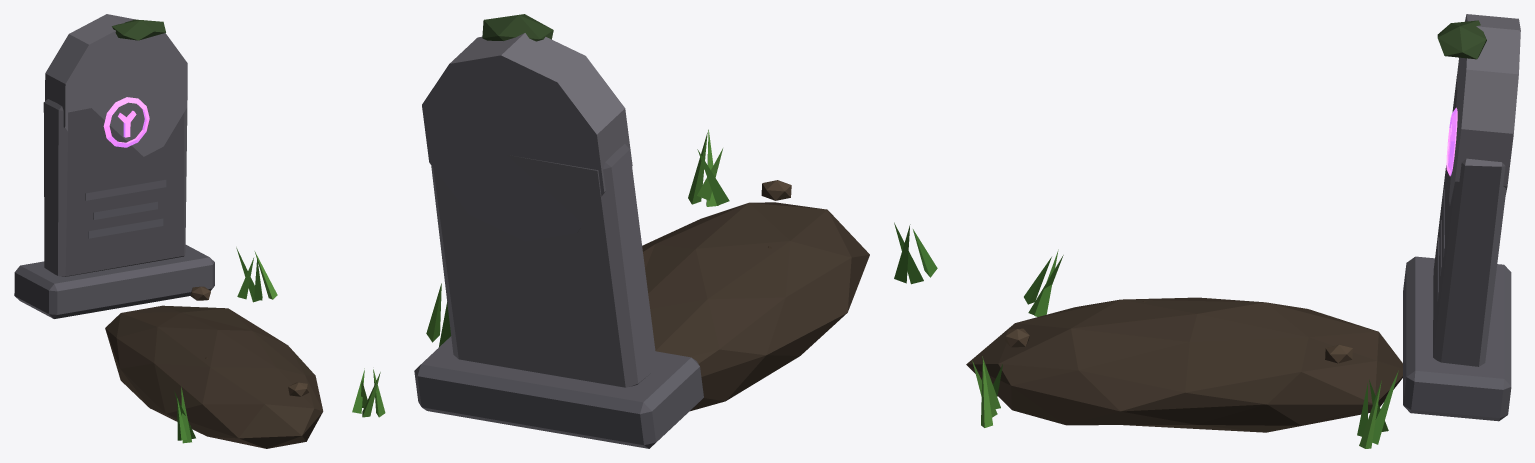
File: grave_1.glb
3 renders of one model, left to right at view 1: azimuth 30°, elevation 25°; view 2: azimuth 150°, elevation 25°; view 3: azimuth 270°, elevation 25°, orthographic. The views are drawn at different scales.
Parts seen in each view (by area): view 1: Grave1; view 2: Grave1; view 3: Grave1.
Part boxes in pixels (bbox=[...]): Grave1: bbox=[14, 14, 385, 448]; Grave1: bbox=[414, 14, 937, 448]; Grave1: bbox=[966, 14, 1520, 448].
Bounding box in the file's own units: 0.8444 × 1.12 × 1.37.
